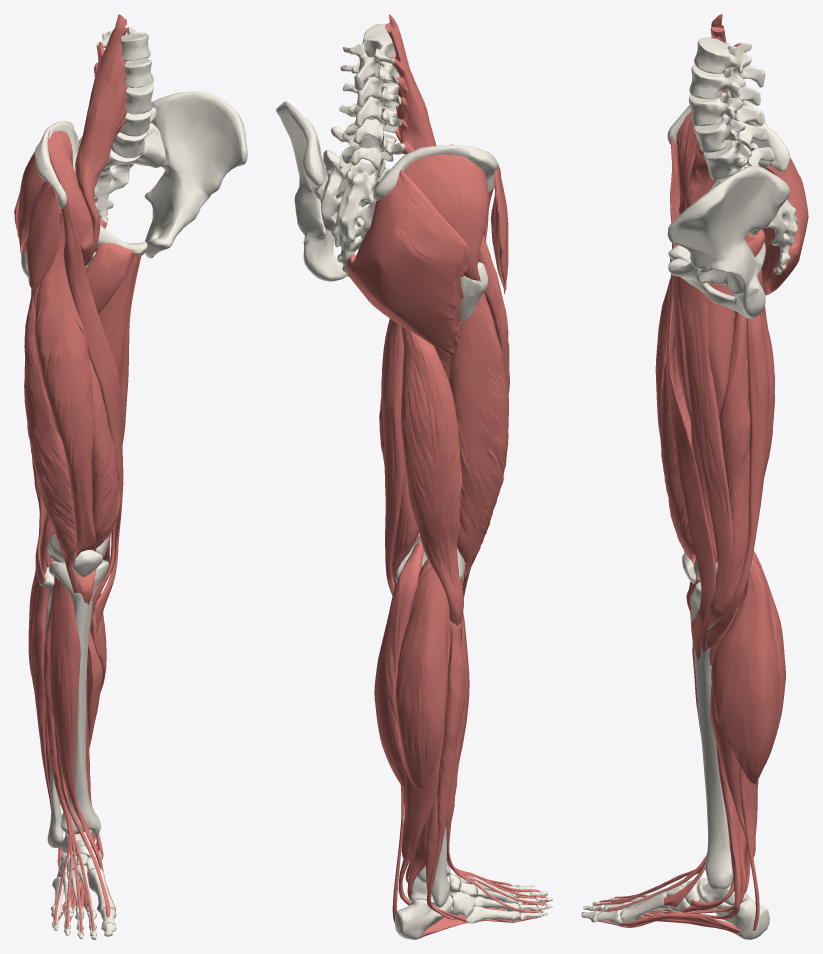
The model's file is muscle_lower.glb.
3 views of the same model, side by side, from view 1: azimuth 30°, elevation 25°; view 2: azimuth 150°, elevation 25°; view 3: azimuth 270°, elevation 25° (orthographic). The views are drawn at different scales.
Parts seen in each view (by area): view 1: b_pelvis, rectus_femoris, vastus_lateralis, psoas_major, sartorius, tibialis_anterior, b_tibia, b_lumbar, vastus_medialis, b_foot, extensor_digitorum_longus, tensor_fasciae_latae (+14 smaller); view 2: gluteus_maximus, gastrocnemius, biceps_femoris, b_pelvis, vastus_lateralis, b_lumbar, gluteus_medius, b_foot, semitendinosus, fibularis_longus, psoas_major, soleus (+10 smaller); view 3: b_pelvis, gastrocnemius, b_lumbar, gracilis, semimembranosus, sartorius, semitendinosus, b_tibia, b_foot, vastus_medialis, adductor_magnus, gluteus_maximus (+12 smaller).
Part boxes in pixels (left/top/right/bottom): b_pelvis: left=34, top=91, right=247, bottom=265; rectus_femoris: left=35, top=213, right=96, bottom=604; vastus_lateralis: left=24, top=285, right=79, bottom=593; psoas_major: left=75, top=14, right=128, bottom=266; sartorius: left=60, top=199, right=123, bottom=635; tibialis_anterior: left=50, top=581, right=103, bottom=871; b_tibia: left=49, top=560, right=108, bottom=835; b_lumbar: left=94, top=27, right=156, bottom=158; vastus_medialis: left=89, top=357, right=120, bottom=574; b_foot: left=50, top=830, right=116, bottom=939; extensor_digitorum_longus: left=43, top=576, right=94, bottom=932; tensor_fasciae_latae: left=26, top=181, right=60, bottom=294; gluteus_maximus: left=346, top=169, right=471, bottom=356; gastrocnemius: left=374, top=542, right=449, bottom=789; biceps_femoris: left=401, top=326, right=463, bottom=625; b_pelvis: left=276, top=101, right=500, bottom=281; vastus_lateralis: left=448, top=293, right=508, bottom=597; b_lumbar: left=331, top=24, right=405, bottom=170; gluteus_medius: left=403, top=154, right=488, bottom=280; b_foot: left=395, top=874, right=552, bottom=939; semitendinosus: left=382, top=320, right=405, bottom=595; fibularis_longus: left=426, top=622, right=465, bottom=919; psoas_major: left=385, top=14, right=436, bottom=154; soleus: left=401, top=618, right=451, bottom=859; b_pelvis: left=667, top=100, right=797, bottom=318; gastrocnemius: left=711, top=550, right=785, bottom=784; b_lumbar: left=688, top=37, right=774, bottom=179; gracilis: left=676, top=276, right=732, bottom=651; semimembranosus: left=708, top=311, right=750, bottom=627; sartorius: left=666, top=136, right=716, bottom=660; semitendinosus: left=705, top=312, right=769, bottom=650; b_tibia: left=690, top=582, right=739, bottom=890; b_foot: left=581, top=878, right=769, bottom=939; vastus_medialis: left=660, top=336, right=695, bottom=593; adductor_magnus: left=690, top=283, right=735, bottom=563; gluteus_maximus: left=734, top=158, right=808, bottom=313.
Bounding box in the file's own units: 0.3141 × 1.17 × 0.2553.
